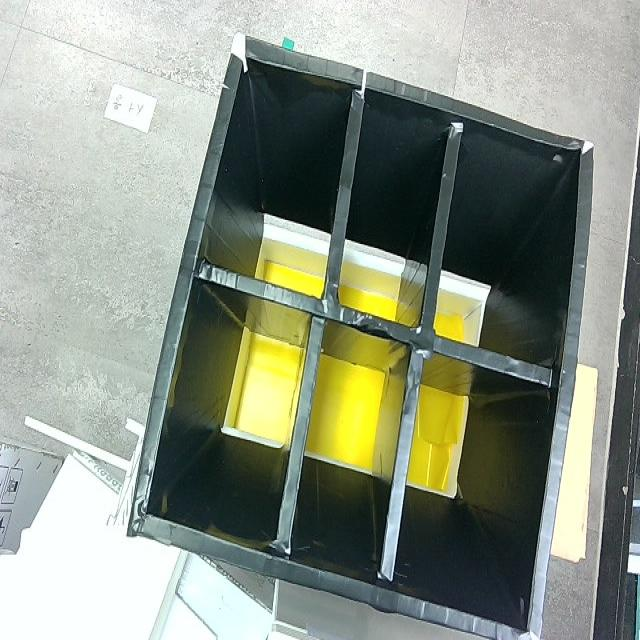box: (119, 21, 599, 640)
